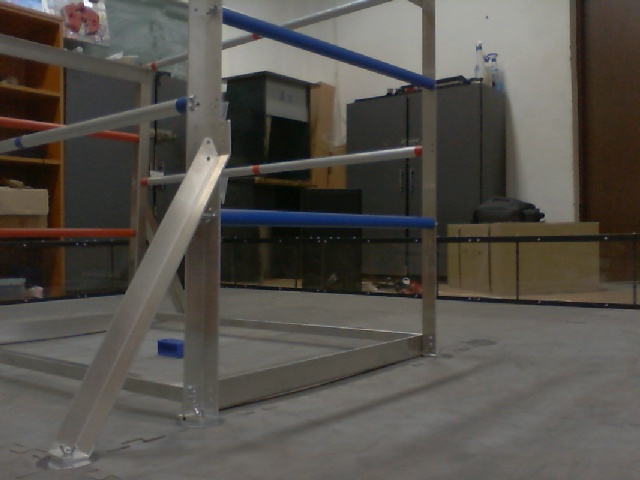BlueSample: (154, 337, 186, 361)
